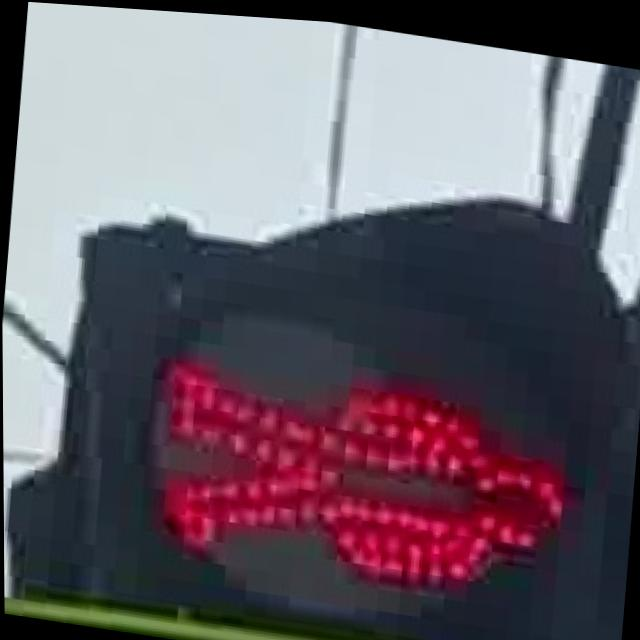red_light: (125, 314, 599, 621)
